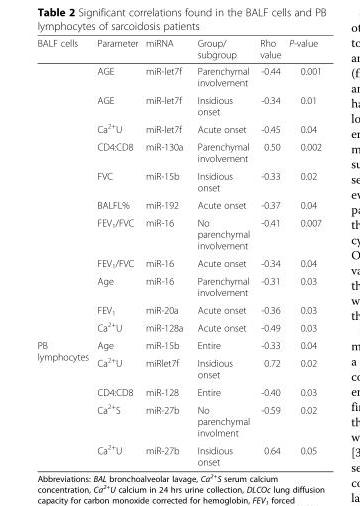table: (36, 37, 320, 466)
table column: (189, 37, 254, 466), (36, 37, 92, 466), (92, 37, 141, 466), (141, 37, 189, 466), (284, 37, 320, 466), (254, 37, 284, 466)
table column header: (36, 37, 320, 62)
table row: (36, 213, 320, 254), (36, 399, 320, 440), (36, 90, 320, 119), (36, 137, 320, 166), (36, 166, 320, 195), (36, 353, 320, 382), (36, 62, 320, 90), (36, 272, 320, 300), (36, 440, 320, 466), (36, 37, 320, 62), (36, 119, 320, 137), (36, 195, 320, 213), (36, 254, 320, 272), (36, 300, 320, 318), (36, 318, 320, 336), (36, 336, 320, 353), (36, 382, 320, 399)
table spanning cell: (36, 336, 92, 466)
